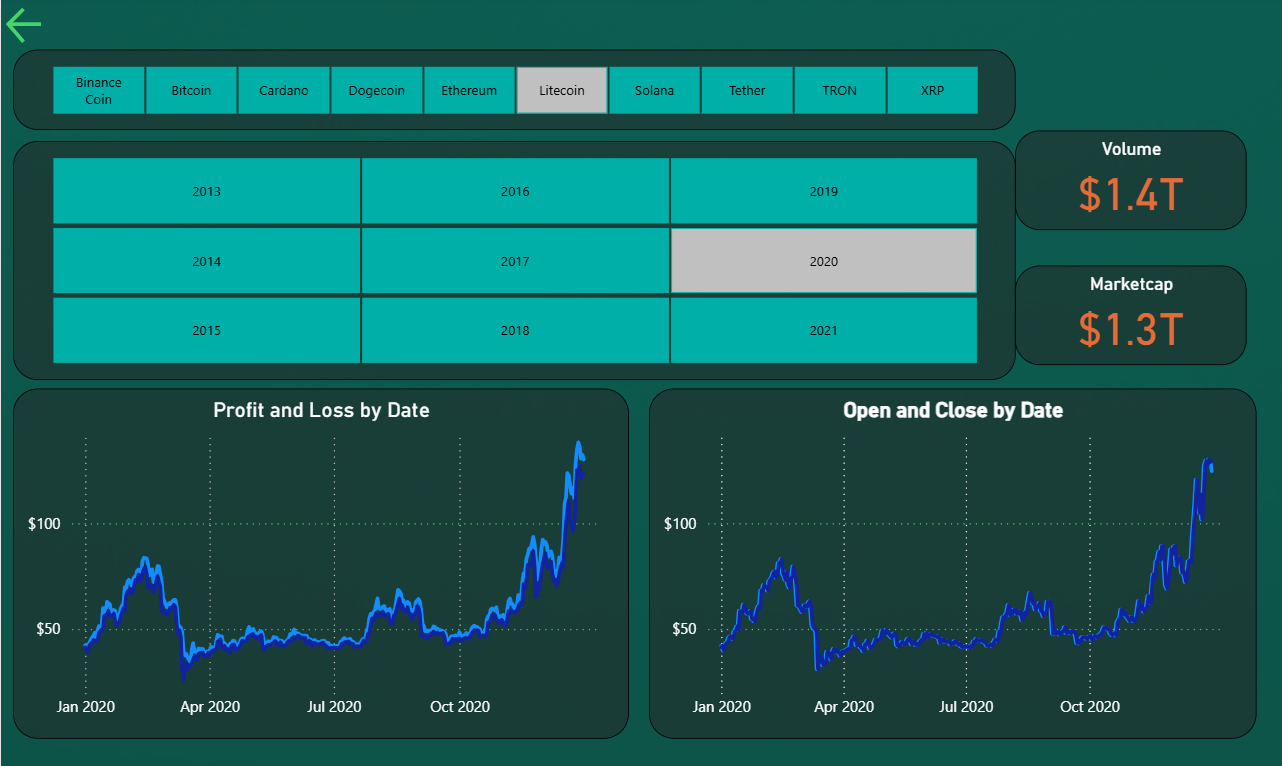

This screenshot's page, from the dashboard's own definition file:
{"tool":"powerbi","page":{"name":"Page 2","canvas":[1280,720],"ordinal":1},"visuals":[{"type":"slicer","fields":{"Values":["CryptoData.Name"]},"box":[10,40,805.5,64.5],"z":0},{"type":"slicer","fields":{"Values":["CryptoData.YEAR"]},"box":[10,113,805,192],"z":1000},{"type":"lineChart","title":"Profit and Loss by Date","fields":{"Y":["Max(CryptoData.High)","Sum(CryptoData.Low)"],"Category":["CryptoData.Date.Variation.Date Hierarchy.Year","CryptoData.Date.Variation.Date Hierarchy.Quarter","CryptoData.Date.Variation.Date Hierarchy.Month","CryptoData.Date.Variation.Date Hierarchy.Day"]},"box":[10,312.2,494.4,281.1],"z":2000},{"type":"actionButton","box":[0,0,38,40],"z":3000},{"type":"card","title":"Volume","fields":{"Values":["Sum(CryptoData.Volume)"]},"box":[815,105,186,80],"z":4000},{"type":"card","title":"Marketcap","fields":{"Values":["Sum(CryptoData.Marketcap)"]},"box":[815,213,186,80],"z":5000},{"type":"lineChart","title":"Open and Close by Date","fields":{"Y":["Sum(CryptoData.Close)","Sum(CryptoData.Open)"],"Category":["CryptoData.Date.Variation.Date Hierarchy.Year","CryptoData.Date.Variation.Date Hierarchy.Quarter","CryptoData.Date.Variation.Date Hierarchy.Month","CryptoData.Date.Variation.Date Hierarchy.Day"]},"box":[521,312,488,281],"z":6000}]}

Visuals, with their boxes on the page's 1280x720 design canvas (x1, y1, x2, y2). These are canvas units, not pixel positions in the 1282x766 screenshot, which may show the page scaled, cropped or inside an application window:
slicer - CryptoData.Name: [x1=10, y1=40, x2=816, y2=104]
slicer - CryptoData.YEAR: [x1=10, y1=113, x2=815, y2=305]
"Profit and Loss by Date" lineChart: [x1=10, y1=312, x2=504, y2=593]
actionButton: [x1=0, y1=0, x2=38, y2=40]
"Volume" card: [x1=815, y1=105, x2=1001, y2=185]
"Marketcap" card: [x1=815, y1=213, x2=1001, y2=293]
"Open and Close by Date" lineChart: [x1=521, y1=312, x2=1009, y2=593]
